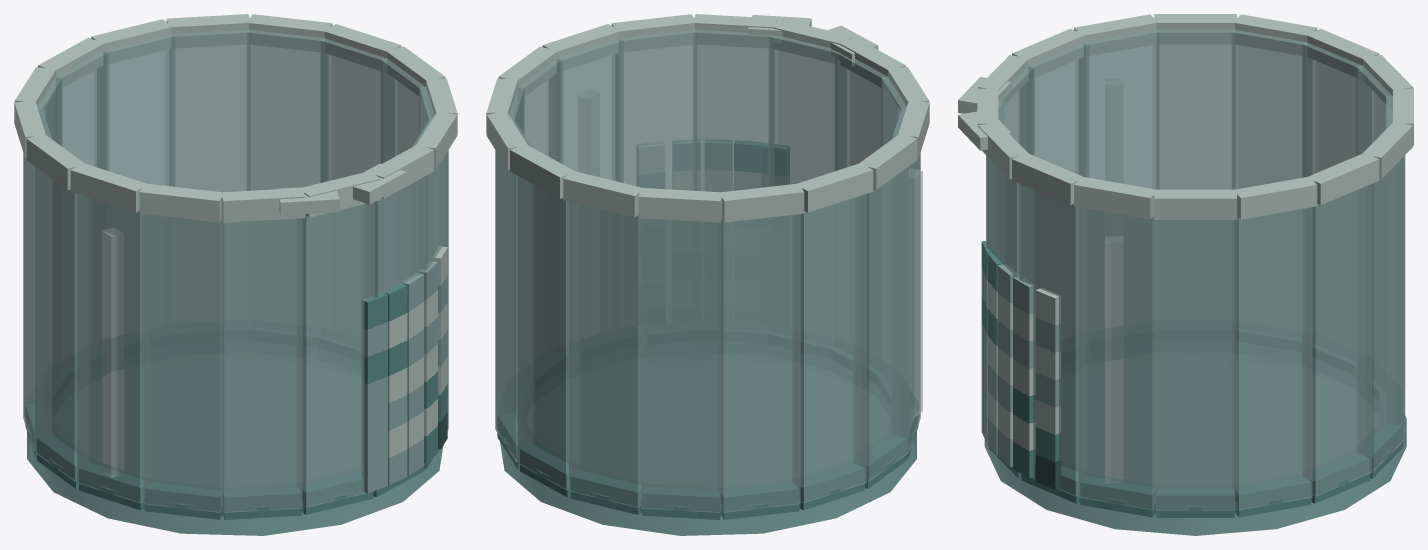
File: CMU3DCMBeakerLargeMedicalSmallCloud.glb
The picture shows the model from 3 angles, left to right: view 1: azimuth 30°, elevation 25°; view 2: azimuth 150°, elevation 25°; view 3: azimuth 270°, elevation 25°; orthographic projection.
Visible parts, largest first — view 1: closed vessel floor, thin hollow vessel wall 11, thin hollow vessel wall 10, thin hollow vessel wall 09, thin hollow vessel wall 12, thin hollow vessel wall 08, thin hollow vessel wall 03, thin hollow vessel wall 02, thin hollow vessel wall 04, thin hollow vessel wall 01, thin hollow vessel wall 07, thin hollow vessel wall 13 (+38 smaller); view 2: closed vessel floor, thin hollow vessel wall 05, thin hollow vessel wall 06, thin hollow vessel wall 04, thin hollow vessel wall 07, thin hollow vessel wall 03, thin hollow vessel wall 08, thin hollow vessel wall 13, thin hollow vessel wall 14, thin hollow vessel wall 12, thin hollow vessel wall 02, thin hollow vessel wall 15 (+41 smaller); view 3: closed vessel floor, thin hollow vessel wall 15, thin hollow vessel wall 01, thin hollow vessel wall 16, thin hollow vessel wall 02, thin hollow vessel wall 08, thin hollow vessel wall 14, thin hollow vessel wall 03, thin hollow vessel wall 09, thin hollow vessel wall 07, thin hollow vessel wall 06, thin hollow vessel wall 10 (+40 smaller).
Part boxes in pixels (box(x1,y1,x2,y2)): closed vessel floor: box(27, 352, 443, 535); thin hollow vessel wall 11: box(221, 218, 302, 512); thin hollow vessel wall 10: box(143, 214, 224, 512); thin hollow vessel wall 09: box(77, 194, 151, 503); thin hollow vessel wall 12: box(297, 202, 374, 507); thin hollow vessel wall 08: box(34, 166, 90, 481); thin hollow vessel wall 03: box(170, 29, 250, 192); thin hollow vessel wall 02: box(247, 29, 325, 190); thin hollow vessel wall 04: box(101, 34, 174, 186); thin hollow vessel wall 01: box(320, 38, 388, 182); thin hollow vessel wall 07: box(23, 108, 52, 451); thin hollow vessel wall 13: box(363, 176, 426, 489); closed vessel floor: box(500, 352, 916, 535); thin hollow vessel wall 05: box(641, 218, 722, 512); thin hollow vessel wall 06: box(719, 214, 800, 512); thin hollow vessel wall 04: box(569, 201, 646, 507); thin hollow vessel wall 07: box(792, 194, 866, 503); thin hollow vessel wall 03: box(517, 176, 580, 489); thin hollow vessel wall 08: box(853, 166, 909, 481); thin hollow vessel wall 13: box(693, 29, 773, 192); thin hollow vessel wall 14: box(618, 30, 696, 190); thin hollow vessel wall 12: box(769, 35, 842, 186); thin hollow vessel wall 02: box(495, 119, 534, 461); thin hollow vessel wall 15: box(555, 38, 623, 182); closed vessel floor: box(984, 353, 1406, 535); thin hollow vessel wall 15: box(1078, 207, 1159, 510); thin hollow vessel wall 01: box(1232, 207, 1312, 510); thin hollow vessel wall 16: box(1156, 220, 1235, 510); thin hollow vessel wall 02: box(1302, 184, 1371, 496); thin hollow vessel wall 08: box(1156, 29, 1234, 189); thin hollow vessel wall 14: box(1019, 184, 1088, 496); thin hollow vessel wall 03: box(1356, 129, 1404, 471); thin hollow vessel wall 09: box(1082, 29, 1159, 189); thin hollow vessel wall 07: box(1232, 29, 1308, 189); thin hollow vessel wall 06: box(1302, 42, 1365, 177); thin hollow vessel wall 10: box(1026, 42, 1088, 177).
Size of the model in its own units: 0.4967 by 0.4275 by 0.5187.
Materials: 10 (5 with a texture image).
